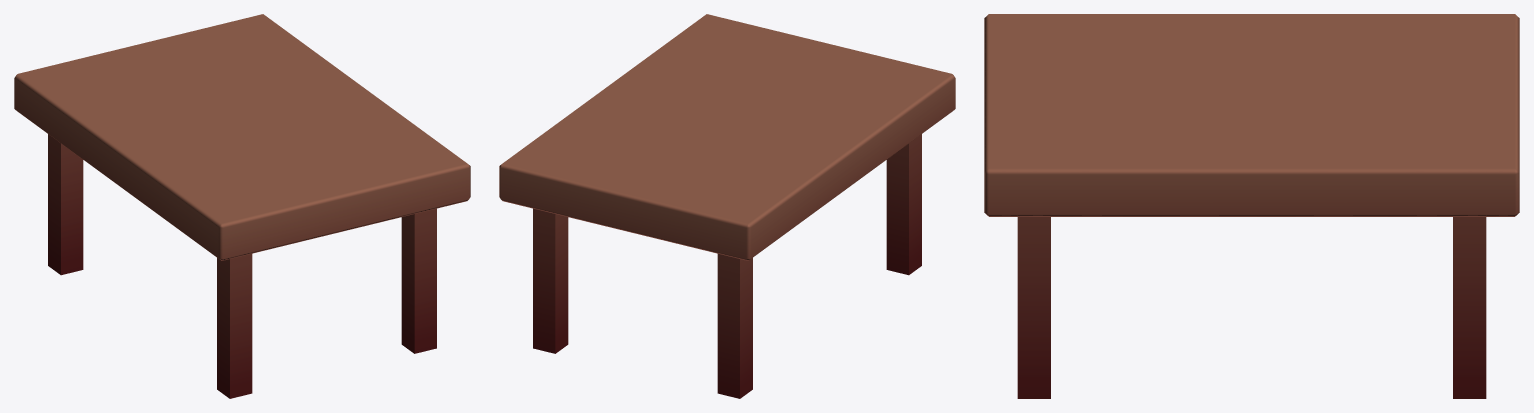
Rendered from Table.fbx.
3 renders of one model, left to right at view 1: azimuth 30°, elevation 25°; view 2: azimuth 150°, elevation 25°; view 3: azimuth 270°, elevation 25°, orthographic. The views are drawn at different scales.
Visible parts, largest first — view 1: Cube; view 2: Cube; view 3: Cube.
Boxes of the visible parts, left/top/right/bottom form: Cube: left=14, top=14, right=470, bottom=398; Cube: left=499, top=14, right=955, bottom=398; Cube: left=984, top=14, right=1519, bottom=398.
Bounding box in the file's own units: 140 × 100 × 200.
